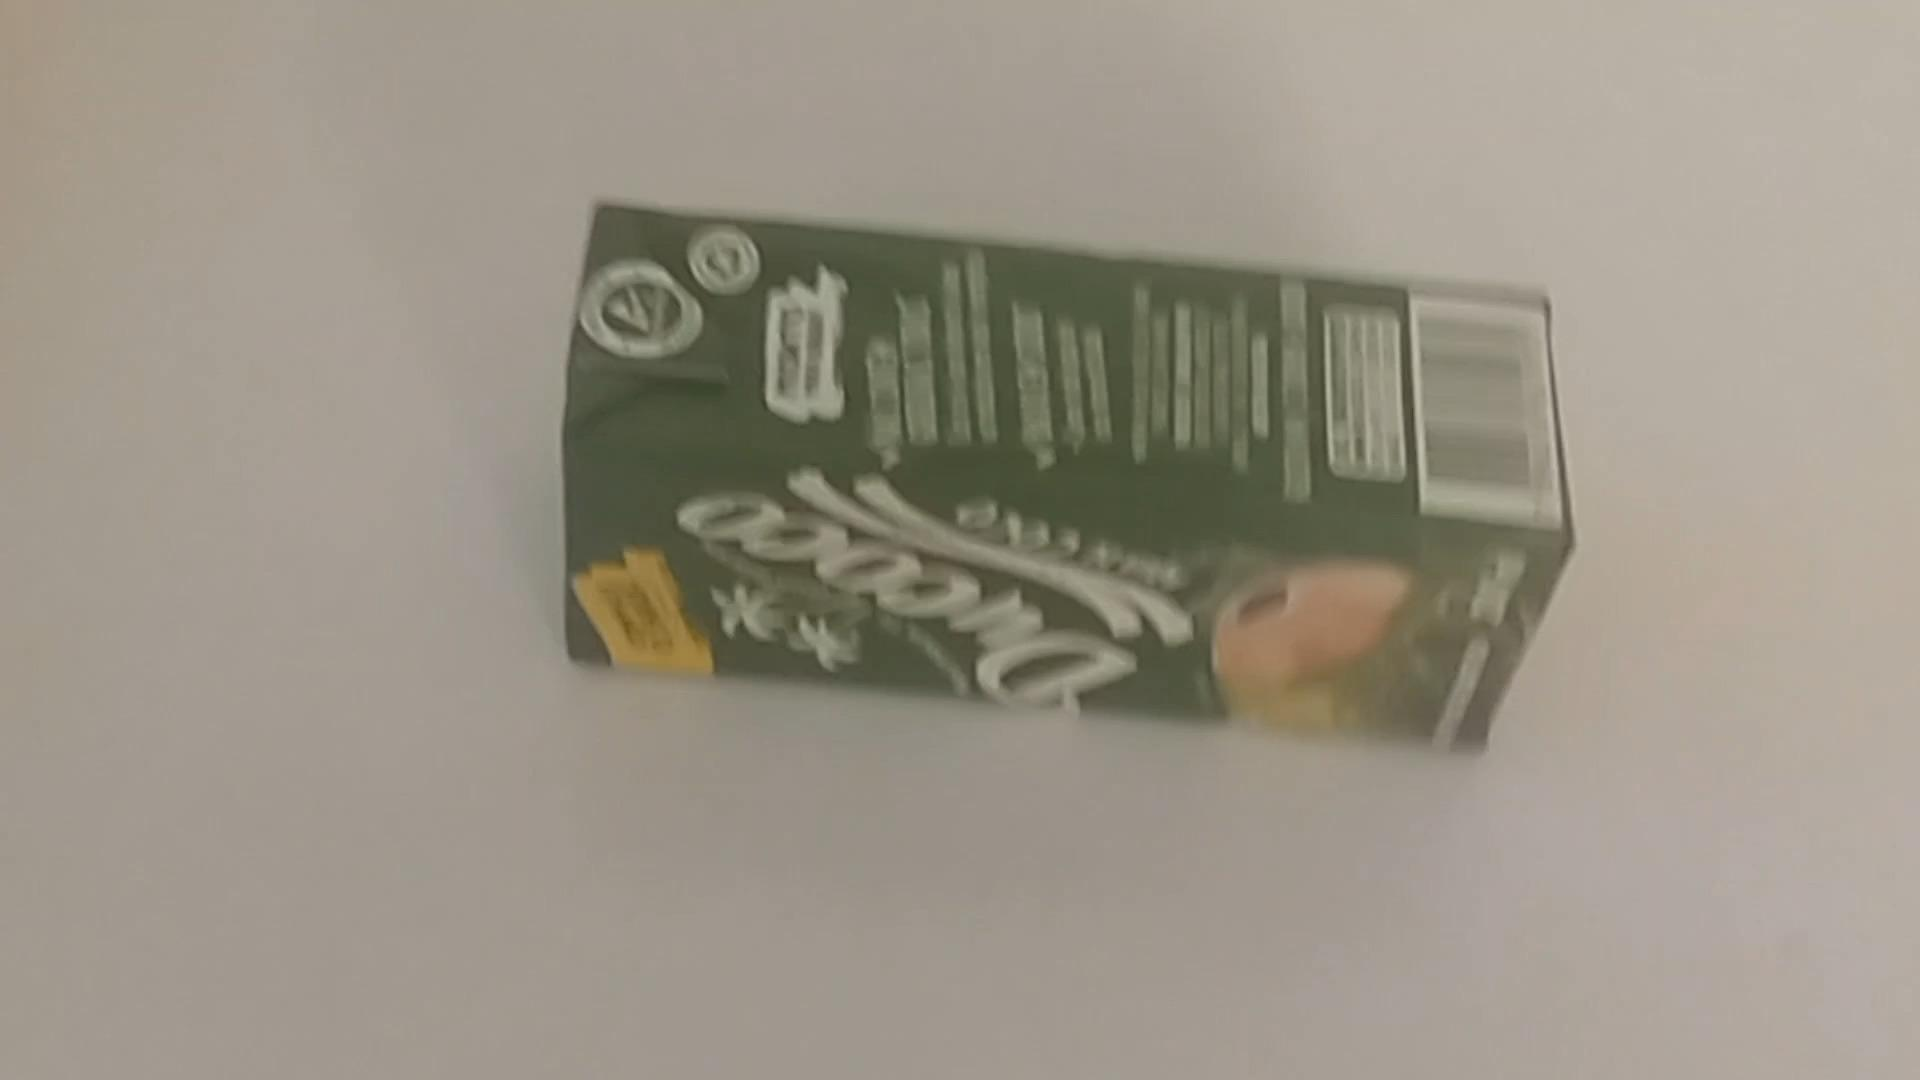coco: (539, 193, 1577, 778)
